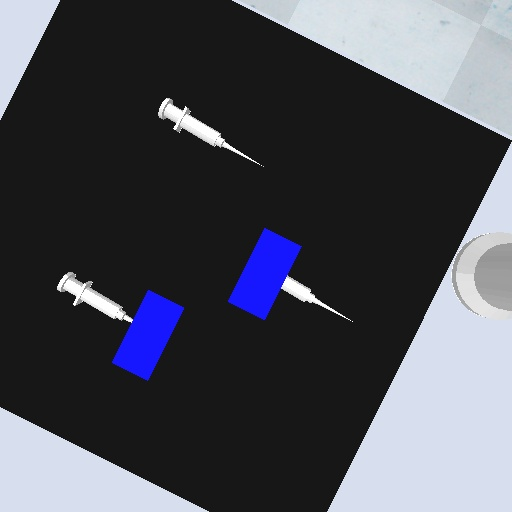jeringuilla: (156, 94, 270, 171), (54, 268, 136, 325), (279, 273, 359, 326)
